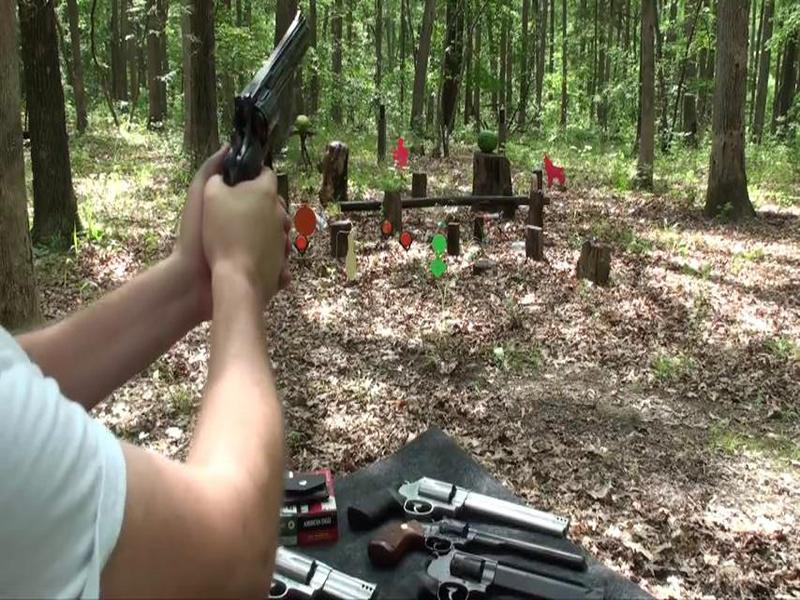Revolver: (203, 2, 334, 192)
